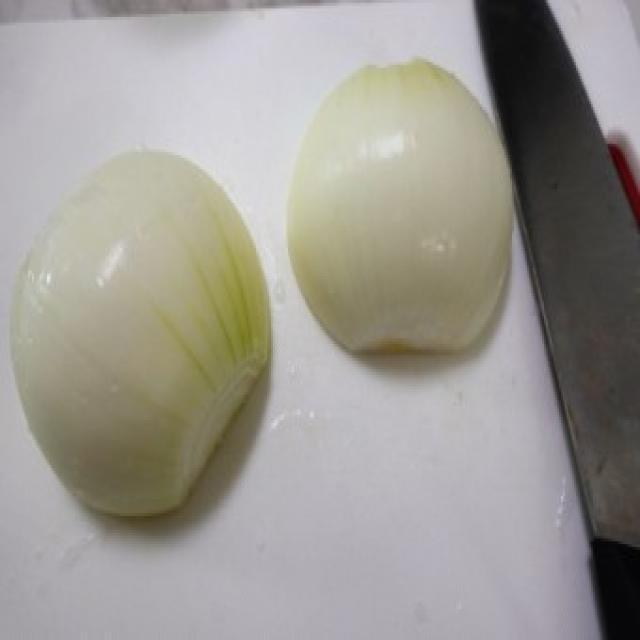Onion: (5, 132, 280, 541), (285, 51, 532, 380)
